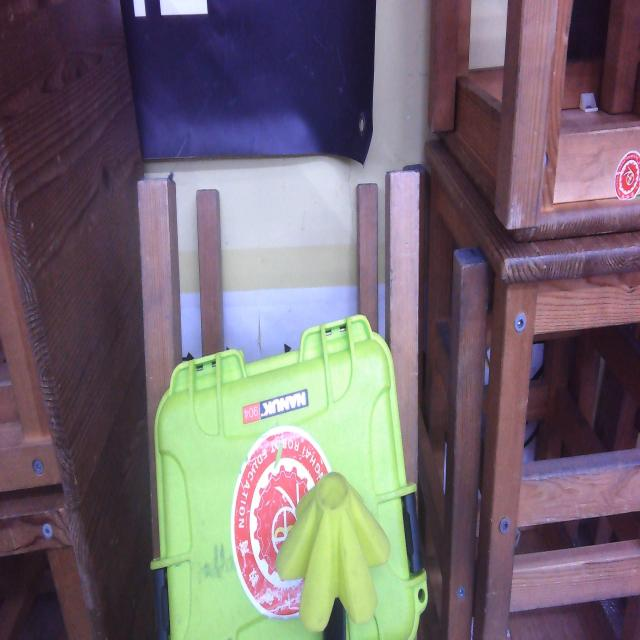Yellow-Stake-Head: (276, 472, 390, 632)
